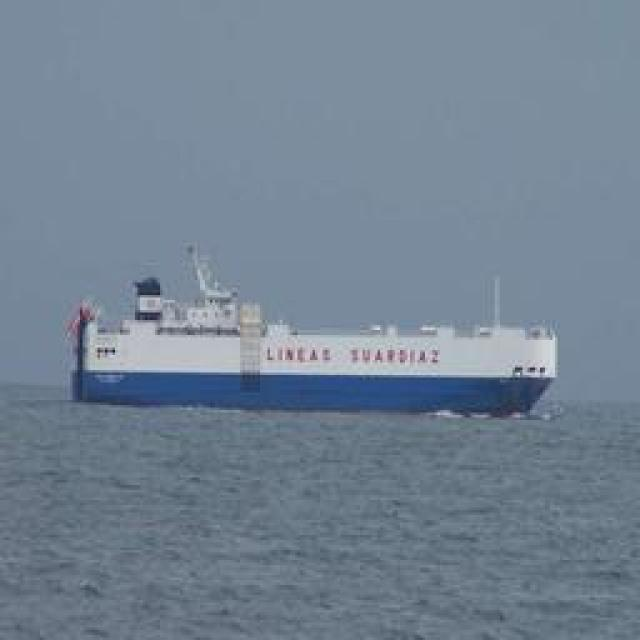CIV_Ship: (65, 256, 563, 414)
